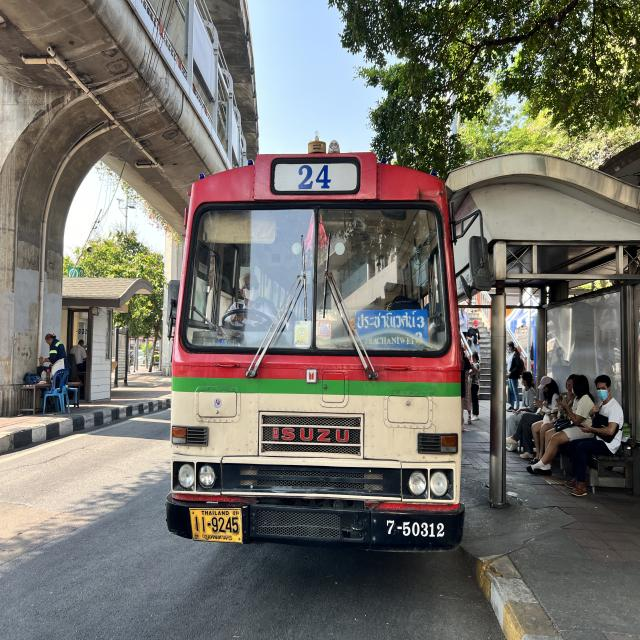BMTA-bus: (165, 151, 465, 554)
Bus-Line-Number: (268, 156, 362, 198)
Destination-Sign-Normal: (356, 310, 429, 353)
